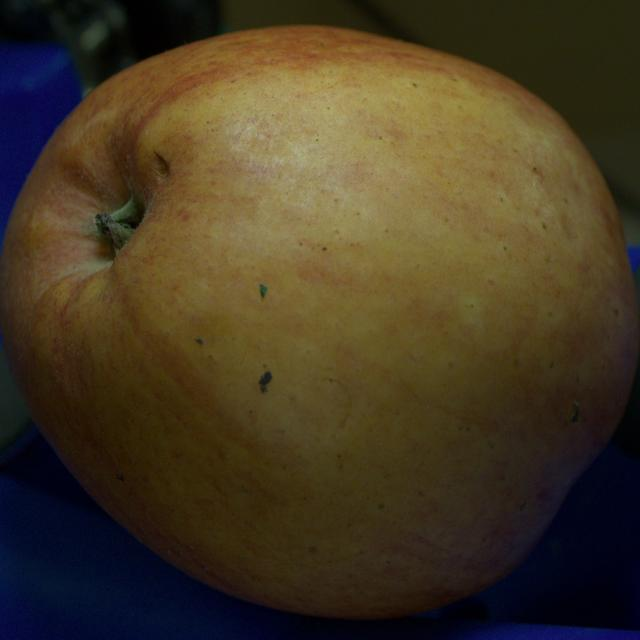apple: (0, 26, 639, 617)
pest: (154, 151, 168, 176), (259, 371, 272, 392), (571, 402, 579, 422), (260, 284, 267, 298)
